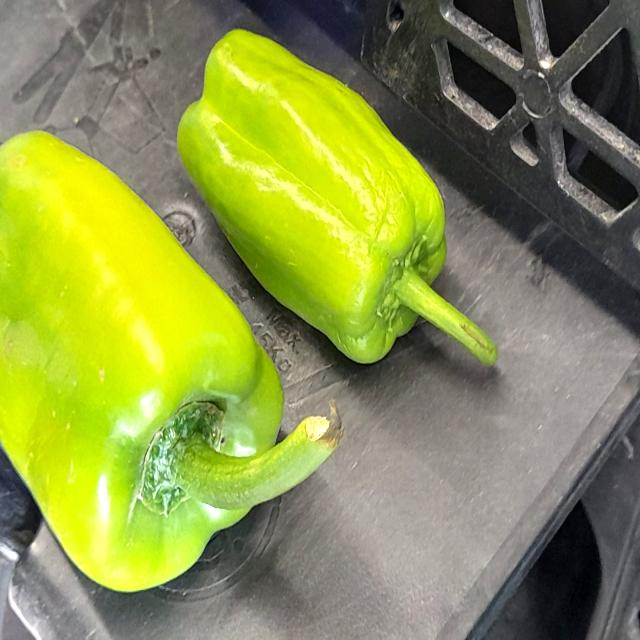bell pepper: (0, 125, 346, 577), (175, 9, 499, 382)
